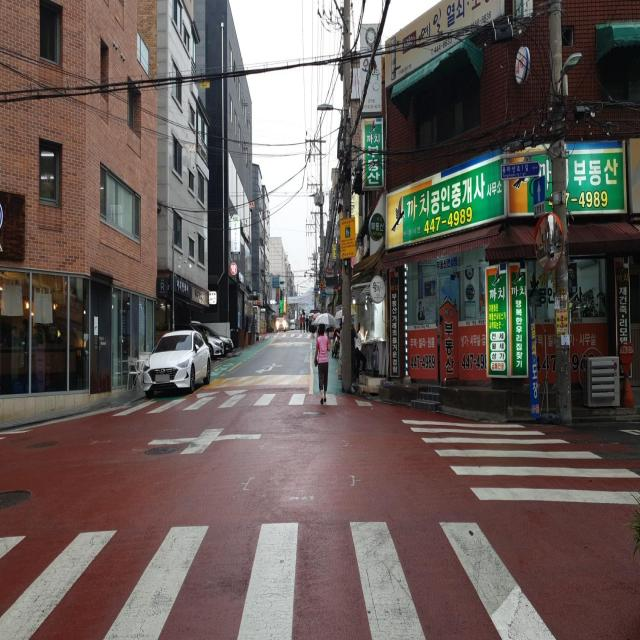횡단보도: (0, 518, 560, 640), (404, 419, 640, 508), (115, 392, 378, 412)
